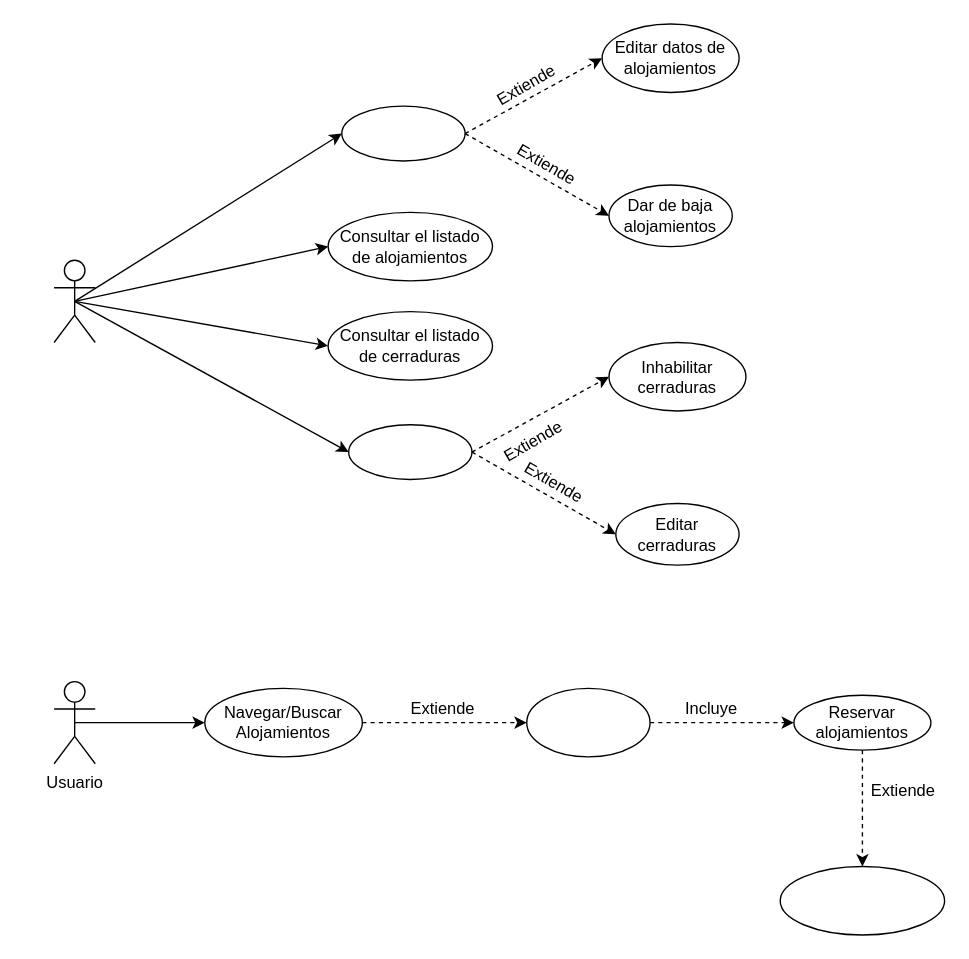
The diagram is 969 pixels wide and 959 high, and some of its shapes have lost their labels. Here are the shapes that lost their labels. From the top down, the box of each, then its label:
(340, 105, 465, 161): Dar de alta alojamientos
(53, 259, 95, 342): Administrador
(347, 423, 472, 480): Registrar cerraduras
(525, 687, 650, 757): Registrarse en la app
(779, 865, 945, 935): Abrir cerradura asociada a reserva
